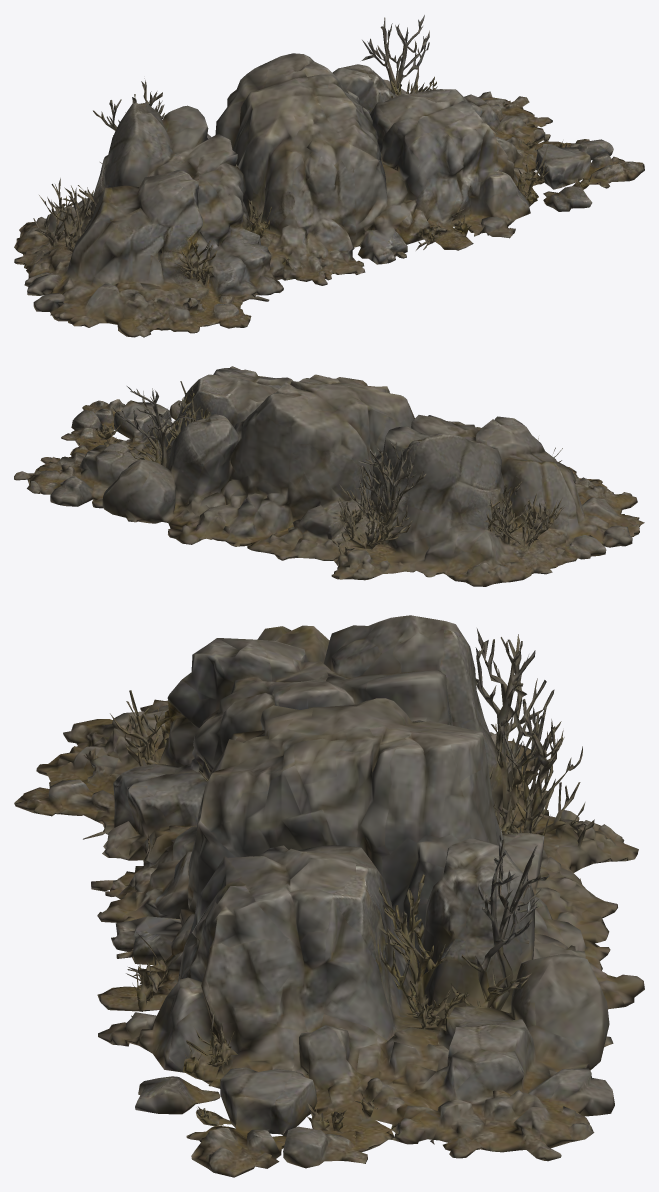
File: rock_outcrop.glb
The picture shows the model from 3 angles, top to bottom: view 1: azimuth 30°, elevation 25°; view 2: azimuth 150°, elevation 25°; view 3: azimuth 270°, elevation 25°; orthographic projection. The views are drawn at different scales.
Visible parts, largest first — view 1: rock_outcrop; view 2: rock_outcrop; view 3: rock_outcrop.
Part boxes in pixels (box(x1,y1,x2,y2)): rock_outcrop: box(14, 15, 644, 337); rock_outcrop: box(14, 366, 644, 586); rock_outcrop: box(14, 615, 644, 1177).
Size of the model in its own units: 190 by 38.91 by 104.
Materials: 1 (1 with a texture image).
